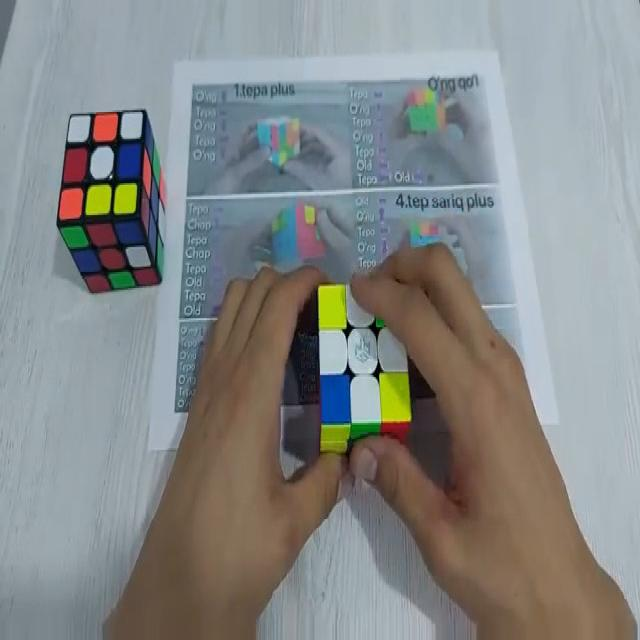Rub: (56, 105, 166, 301), (314, 281, 417, 456)
